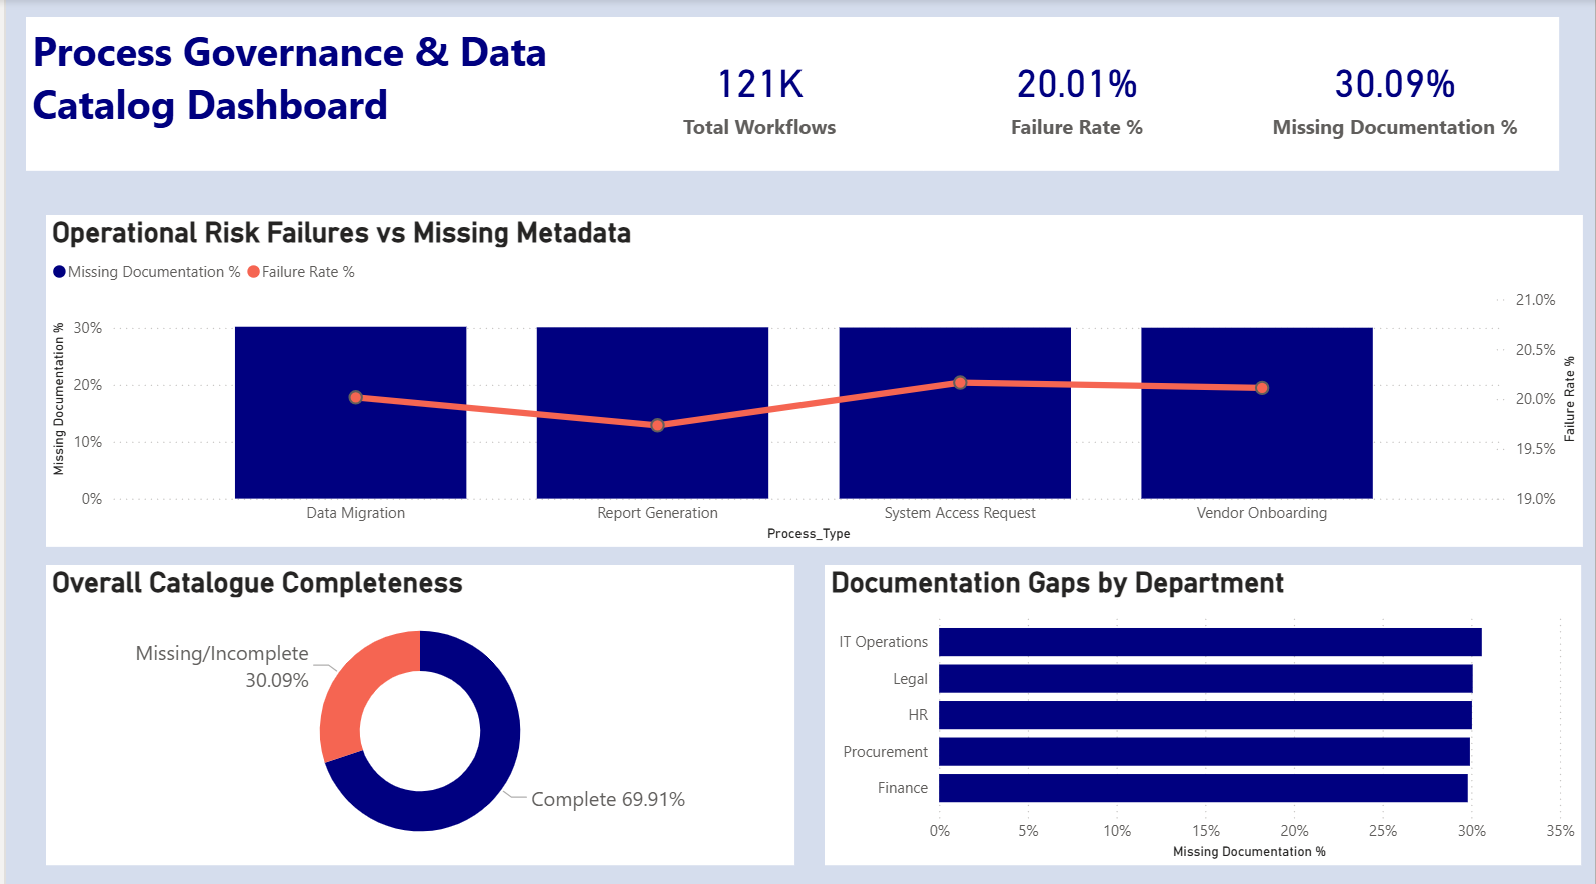

This screenshot's page, from the dashboard's own definition file:
{"tool":"powerbi","page":{"name":"Page 1","canvas":[1280,720],"ordinal":0},"visuals":[{"type":"card","fields":{"Values":["Process_Governance_120K_Records.Failure Rate %"]},"box":[738.3,14.5,248.3,124.1],"z":0},{"type":"card","fields":{"Values":["Process_Governance_120K_Records.Missing Documentation %"]},"box":[986.6,14.5,264.4,124.1],"z":1000},{"type":"card","fields":{"Values":["Process_Governance_120K_Records.Total Workflows"]},"box":[475.6,14.5,262.8,124.1],"z":2000},{"type":"clusteredBarChart","title":"Documentation Gaps by Department","fields":{"Category":["Process_Governance_120K_Records.Department"],"Y":["Process_Governance_120K_Records.Missing Documentation %"]},"box":[659.3,456.2,609.4,241.8],"z":3000},{"type":"textbox","box":[16.1,14.5,459.4,124.1],"z":4000},{"type":"donutChart","title":"Overall Catalogue Completeness","fields":{"Category":["Process_Governance_120K_Records.Metadata_Completeness"],"Y":["Process_Governance_120K_Records.Total Workflows"]},"box":[32.2,456.2,602.9,241.8],"z":5000},{"type":"lineStackedColumnComboChart","title":"Operational Risk Failures vs Missing Metadata","fields":{"Category":["Process_Governance_120K_Records.Process_Type"],"Y":["Process_Governance_120K_Records.Missing Documentation %"],"Y2":["Process_Governance_120K_Records.Failure Rate %"]},"box":[32.2,174.1,1238.1,267.6],"z":6000}]}

Visuals, with their boxes in screenshot pixels (x1, y1, x2, y2), scaled from the page's 1280x720 canvas onto the 1596x884 screenshot:
card - Process_Governance_120K_Records.Failure Rate %: l=921, t=18, r=1230, b=170
card - Process_Governance_120K_Records.Missing Documentation %: l=1230, t=18, r=1560, b=170
card - Process_Governance_120K_Records.Total Workflows: l=593, t=18, r=921, b=170
"Documentation Gaps by Department" clusteredBarChart: l=822, t=560, r=1582, b=857
textbox: l=20, t=18, r=593, b=170
"Overall Catalogue Completeness" donutChart: l=40, t=560, r=792, b=857
"Operational Risk Failures vs Missing Metadata" lineStackedColumnComboChart: l=40, t=214, r=1584, b=542
